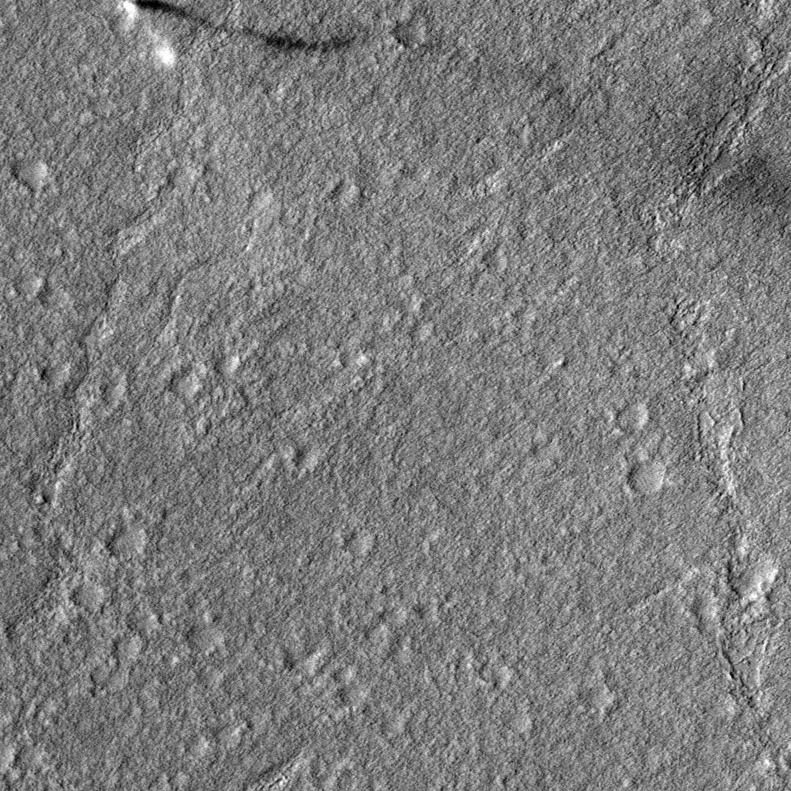dust_devil: (114, 1, 359, 77)
